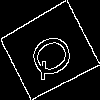Q: (24, 25, 84, 84)
